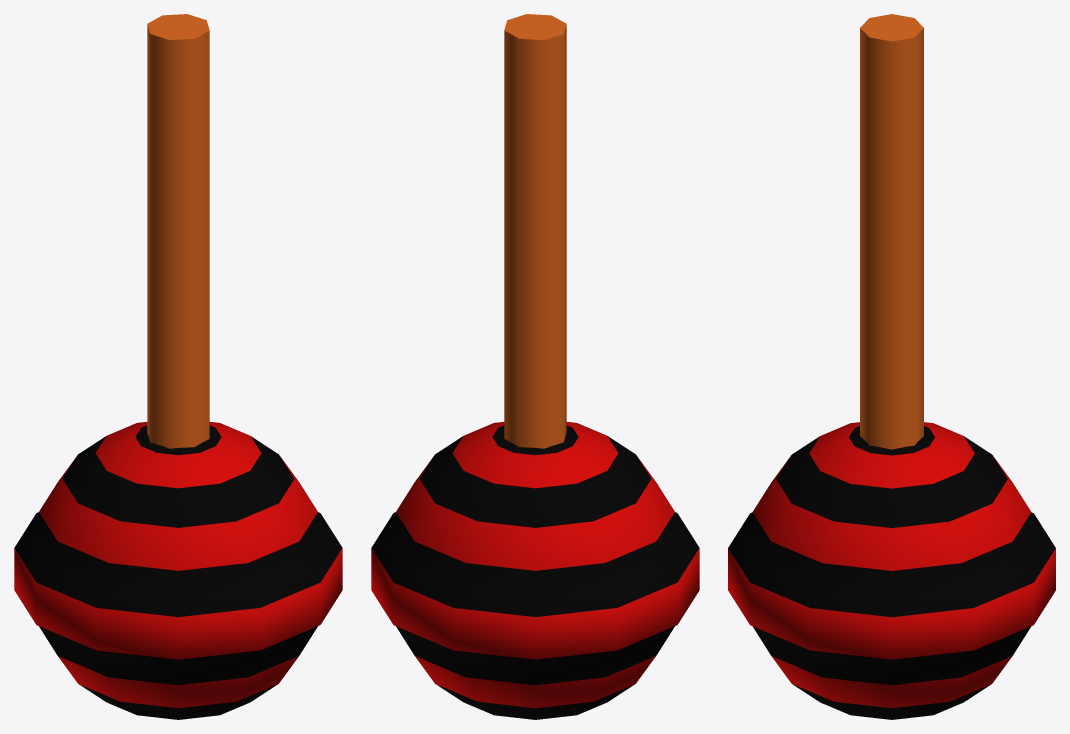
File: candy_0.fbx
The picture shows the model from 3 angles, left to right: view 1: azimuth 30°, elevation 25°; view 2: azimuth 150°, elevation 25°; view 3: azimuth 270°, elevation 25°; orthographic projection.
Visible parts, largest first — view 1: hammer1H8.001; view 2: hammer1H8.001; view 3: hammer1H8.001.
Part boxes in pixels (<box>): hammer1H8.001: <box>14,14,342,719</box>; hammer1H8.001: <box>371,14,699,719</box>; hammer1H8.001: <box>728,14,1055,719</box>.
Size of the model in its own units: 45.3 by 104 by 45.3.
